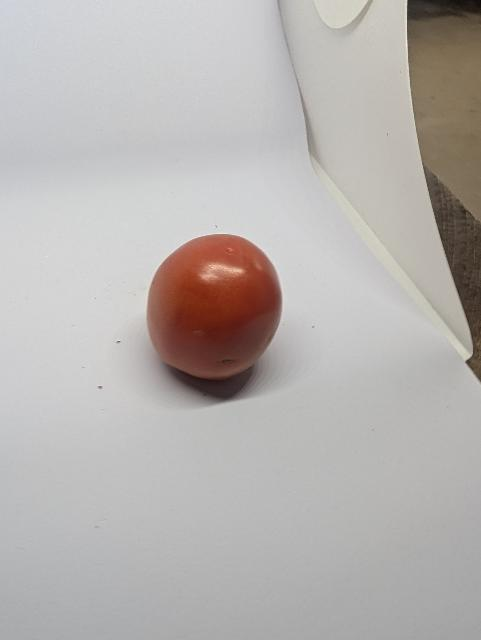red: (143, 228, 286, 385)
